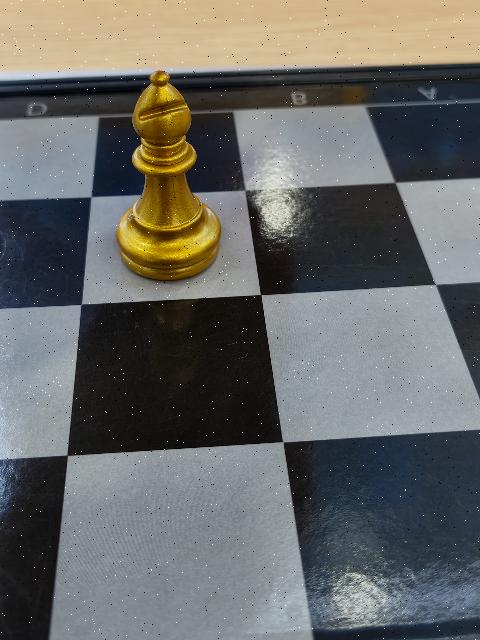black_bishop: (116, 68, 222, 277)
